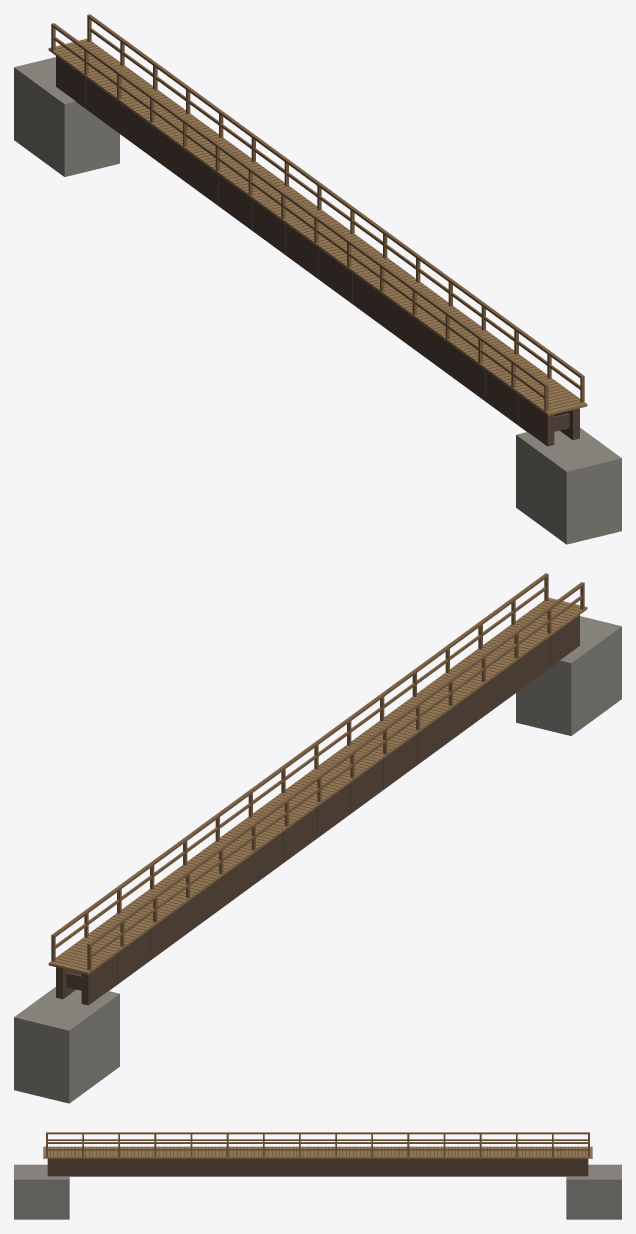
The model's file is t6_cascade.glb.
3 views of the same model, one above another, from view 1: azimuth 30°, elevation 25°; view 2: azimuth 150°, elevation 25°; view 3: azimuth 270°, elevation 25° (orthographic). The views are drawn at different scales.
Visible parts, largest first — view 1: t6_cascade; view 2: t6_cascade; view 3: t6_cascade.
Part boxes in pixels (x1,y1,x2,y2): t6_cascade: (14, 14, 621, 544); t6_cascade: (14, 573, 621, 1103); t6_cascade: (14, 1132, 621, 1219).
Bounding box in the file's own units: 2.4 × 5.62 × 41.5.
